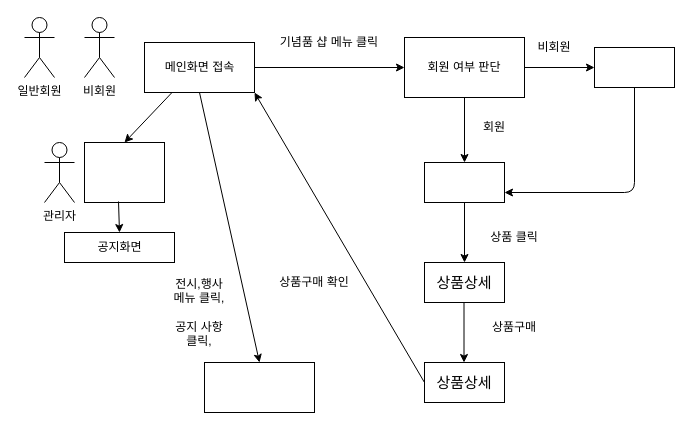
Image size: 692x430. Some labels were removed from this diagram. Here are the shapes that lost their labels. From the top down, the centre of each, then its label:
At point 634,67: "회원가입".
At point 124,172: "공지 게시판 작성".
At point 464,182: "상품목록".
At point 259,387: "해당 화면 출력".
